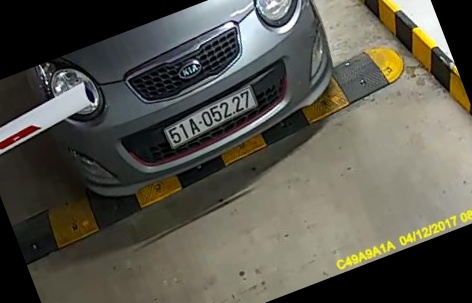plate: (157, 83, 258, 153)
